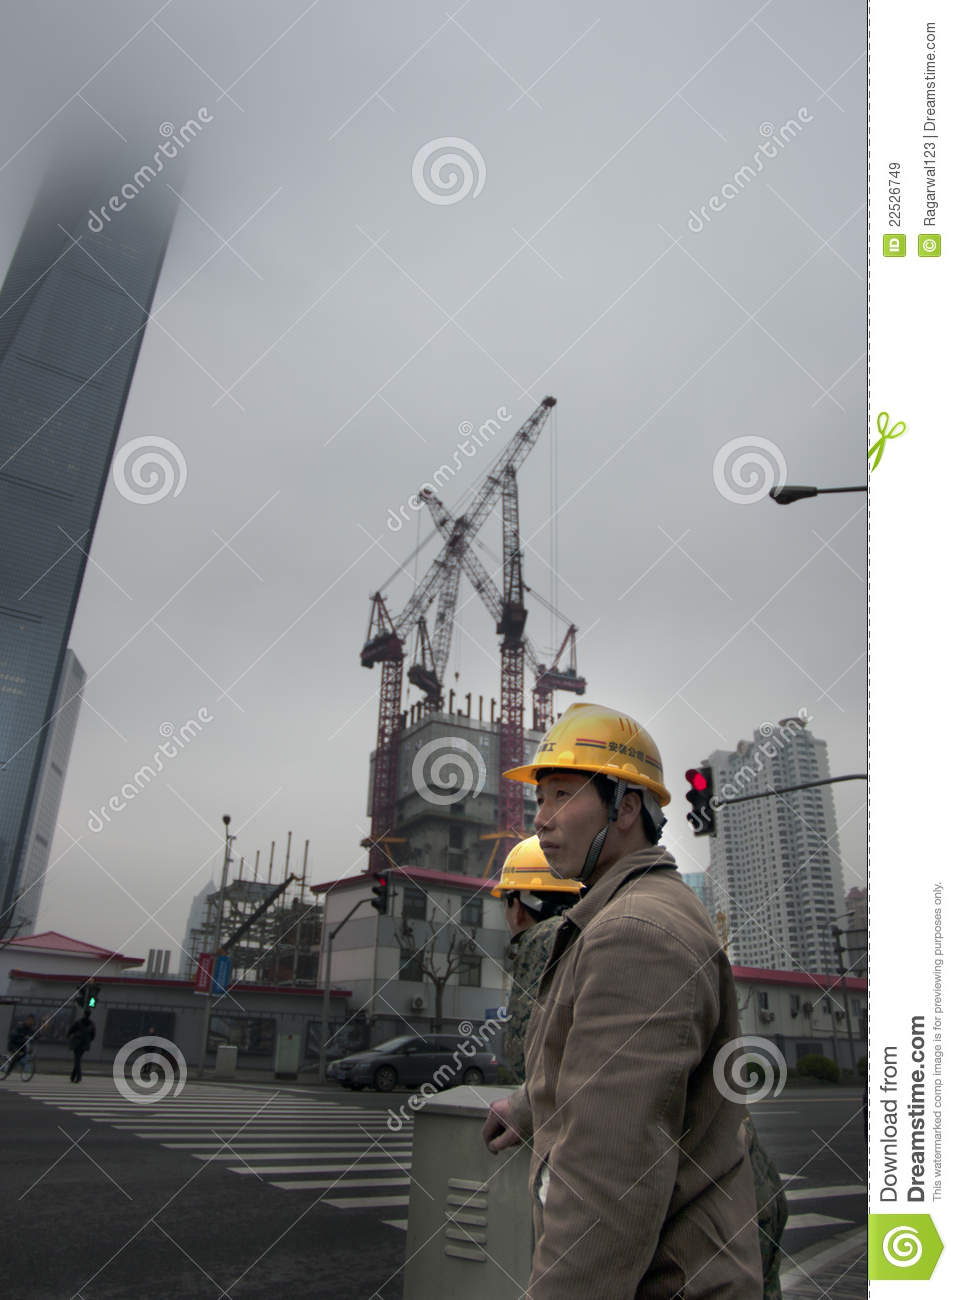safetyhat: (505, 686, 802, 1300)
